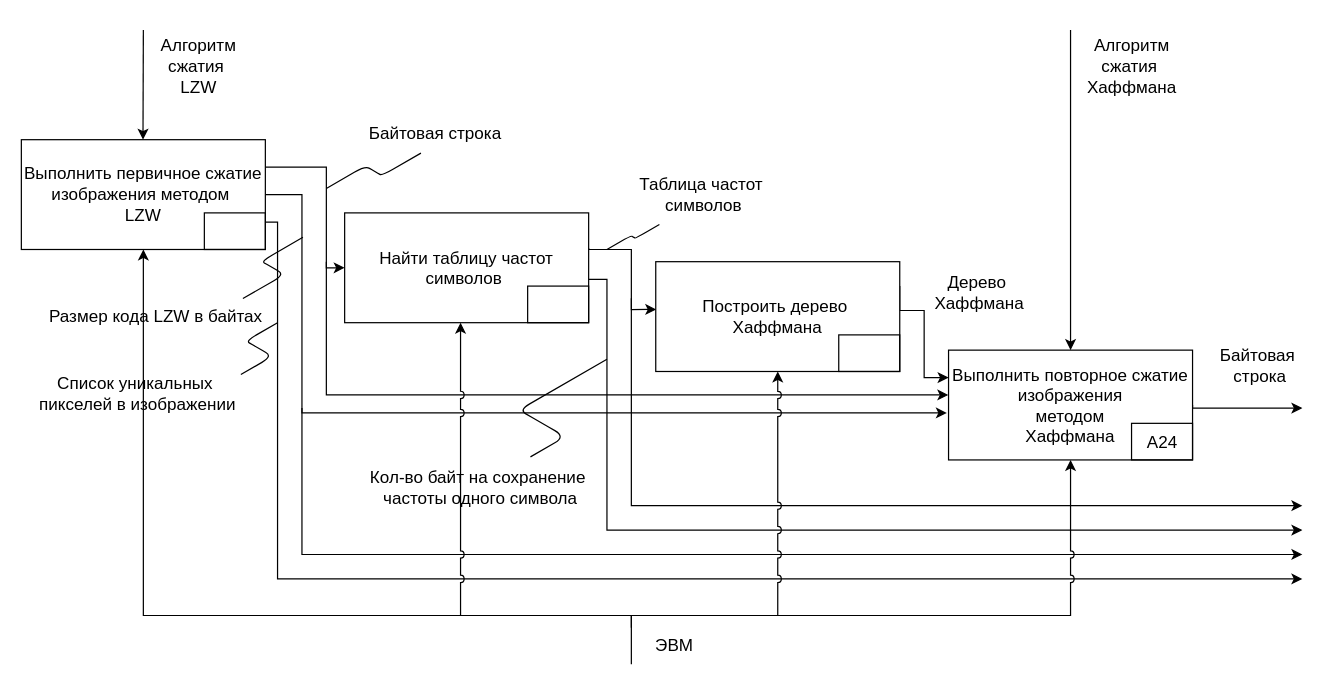
Some shapes in this 1336 by 695 pixel diagram are drawn without their labels. The shapes that lost their labels are listed below. From the top down, each one's centre as x and y in pixels, then its label:
At point (234, 230): "A21".
At point (557, 304): "A22".
At point (869, 352): "A23".
